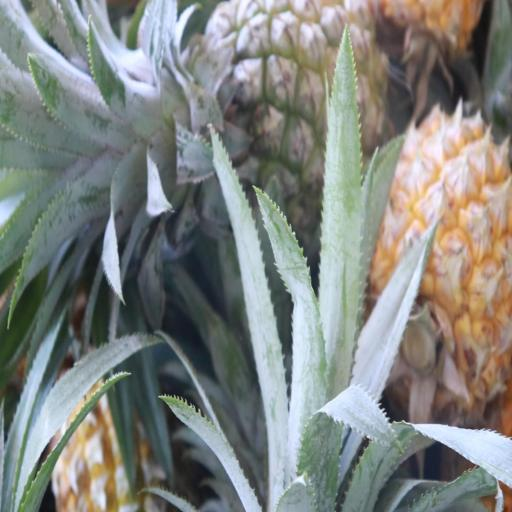Pineapple - v8 v1: (371, 120, 512, 405)
